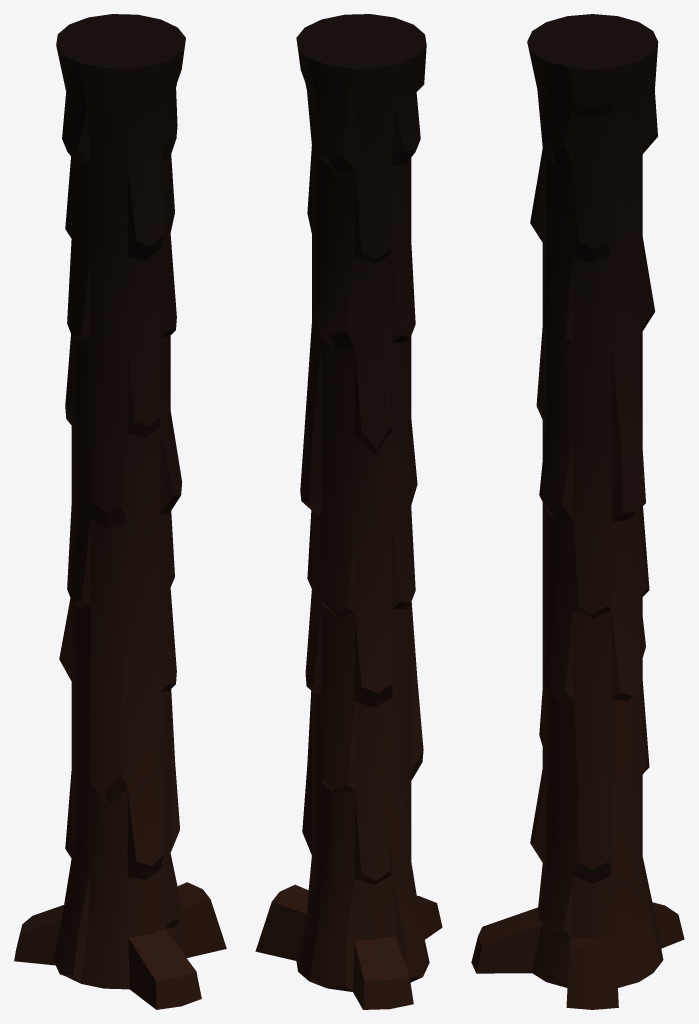
Rendered from Trunk_03.fbx.
The picture shows the model from 3 angles, left to right: view 1: azimuth 30°, elevation 25°; view 2: azimuth 150°, elevation 25°; view 3: azimuth 270°, elevation 25°; orthographic projection.
Parts seen in each view (by area): view 1: Trunk_03; view 2: Trunk_03; view 3: Trunk_03.
Part boxes in pixels (x1,y1,x2,y2): Trunk_03: (14,14,226,1009); Trunk_03: (255,14,442,1009); Trunk_03: (471,14,684,1009).
Bounding box in the file's own units: 138 × 687 × 144.
